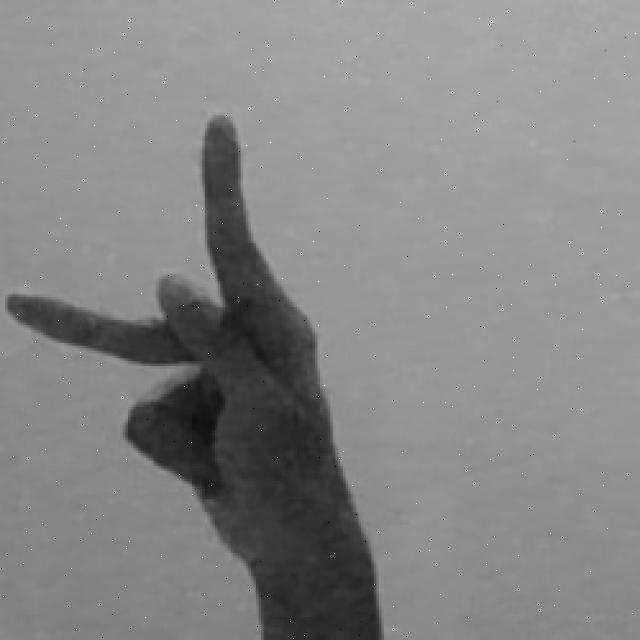K: (2, 109, 388, 640)
